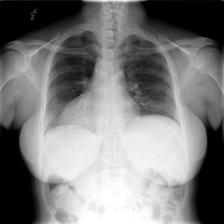normal: (41, 25, 186, 142)
